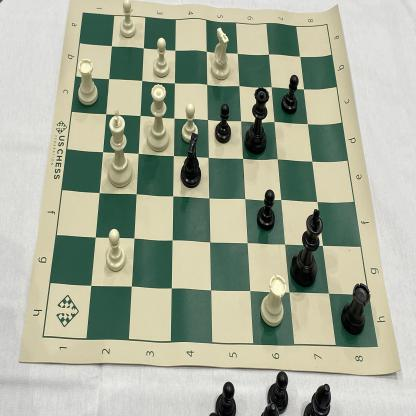black-king: (290, 204, 324, 288)
black-knight: (178, 132, 205, 193)
black-pawn: (255, 187, 278, 234), (212, 101, 233, 146), (280, 73, 301, 117)
black-queen: (244, 83, 269, 156)
black-rook: (341, 278, 370, 336)
white-king: (106, 108, 133, 190)
white-knight: (207, 21, 234, 84)
white-pawn: (103, 226, 128, 277), (151, 34, 172, 81), (180, 100, 200, 144), (117, 0, 138, 41)
white-queen: (145, 78, 174, 157)
white-rook: (257, 269, 287, 329), (74, 55, 100, 107)
